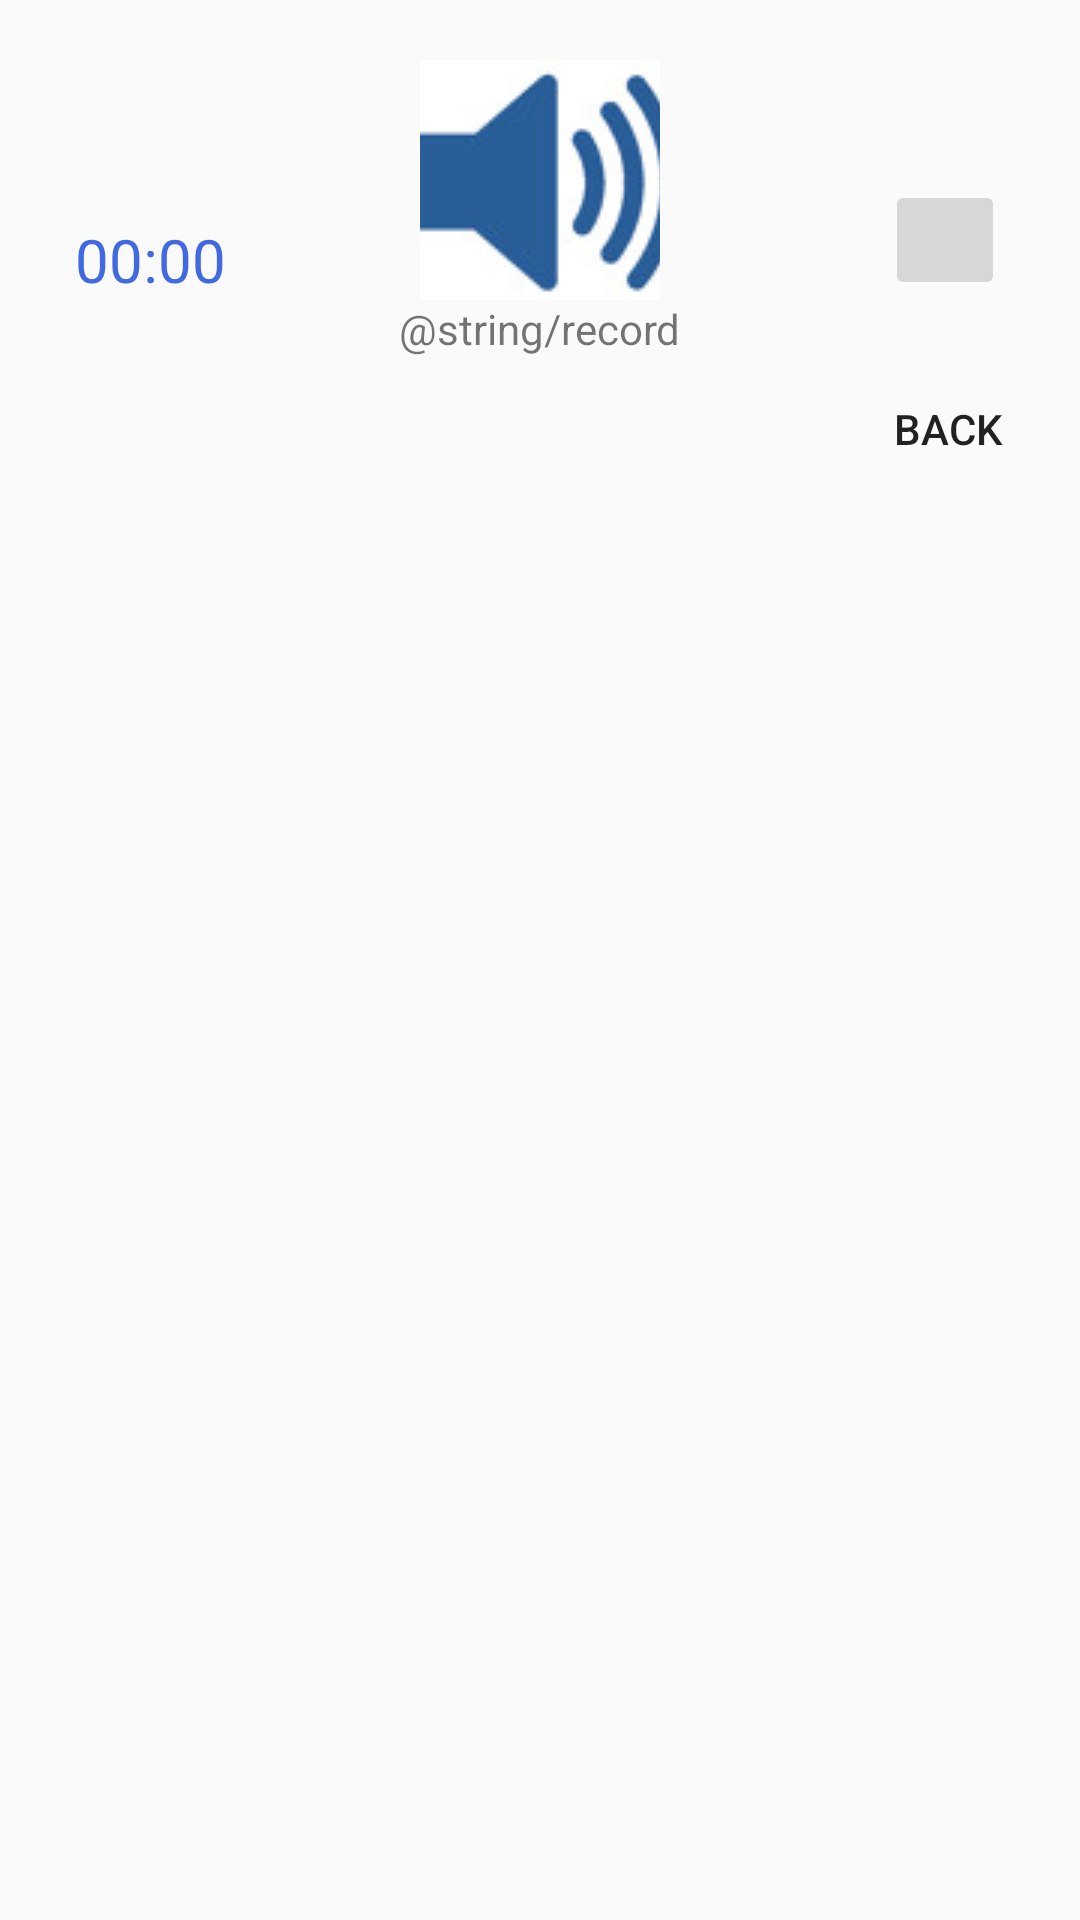

Where icons sit on this 1080×1920 app screen, as (x1, y1, x2, y2):
audio: (420, 73, 660, 292)
